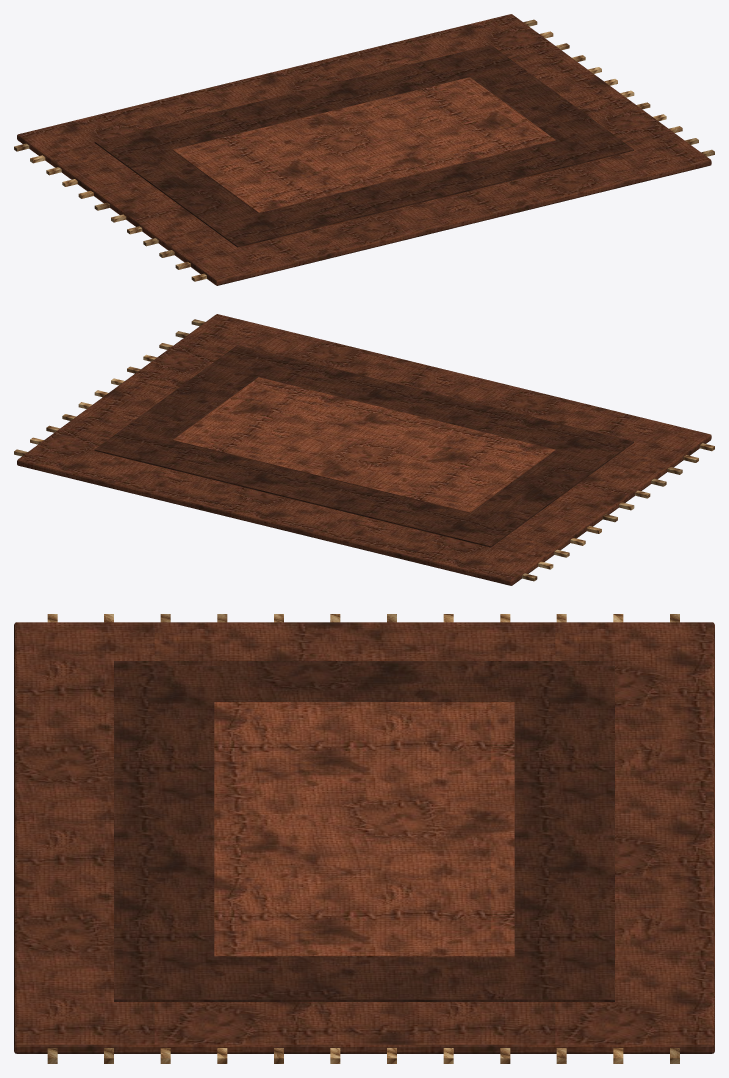
File: rug__plank_root.glb
The picture shows the model from 3 angles, top to bottom: view 1: azimuth 30°, elevation 25°; view 2: azimuth 150°, elevation 25°; view 3: azimuth 270°, elevation 25°; orthographic projection. The views are drawn at different scales.
Visible parts, largest first — view 1: model; view 2: model; view 3: model.
Boxes of the visible parts, x1,y1,x2,y2 form: model: (14, 14, 714, 285); model: (14, 314, 714, 585); model: (14, 614, 714, 1063).
Bounding box in the file's own units: 2.1 × 0.032 × 1.4.
Materials: 6 (6 with a texture image).
